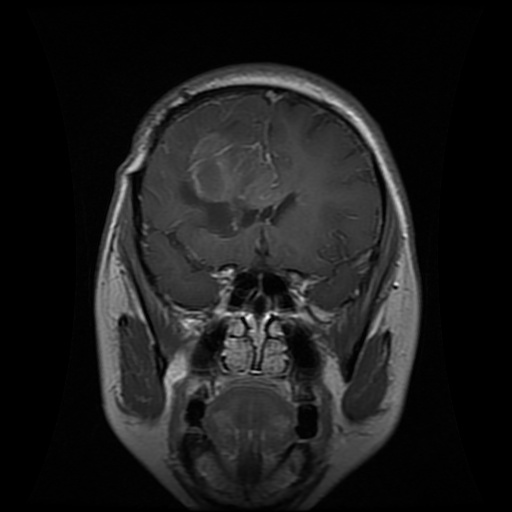glioma: (178, 132, 299, 239)
